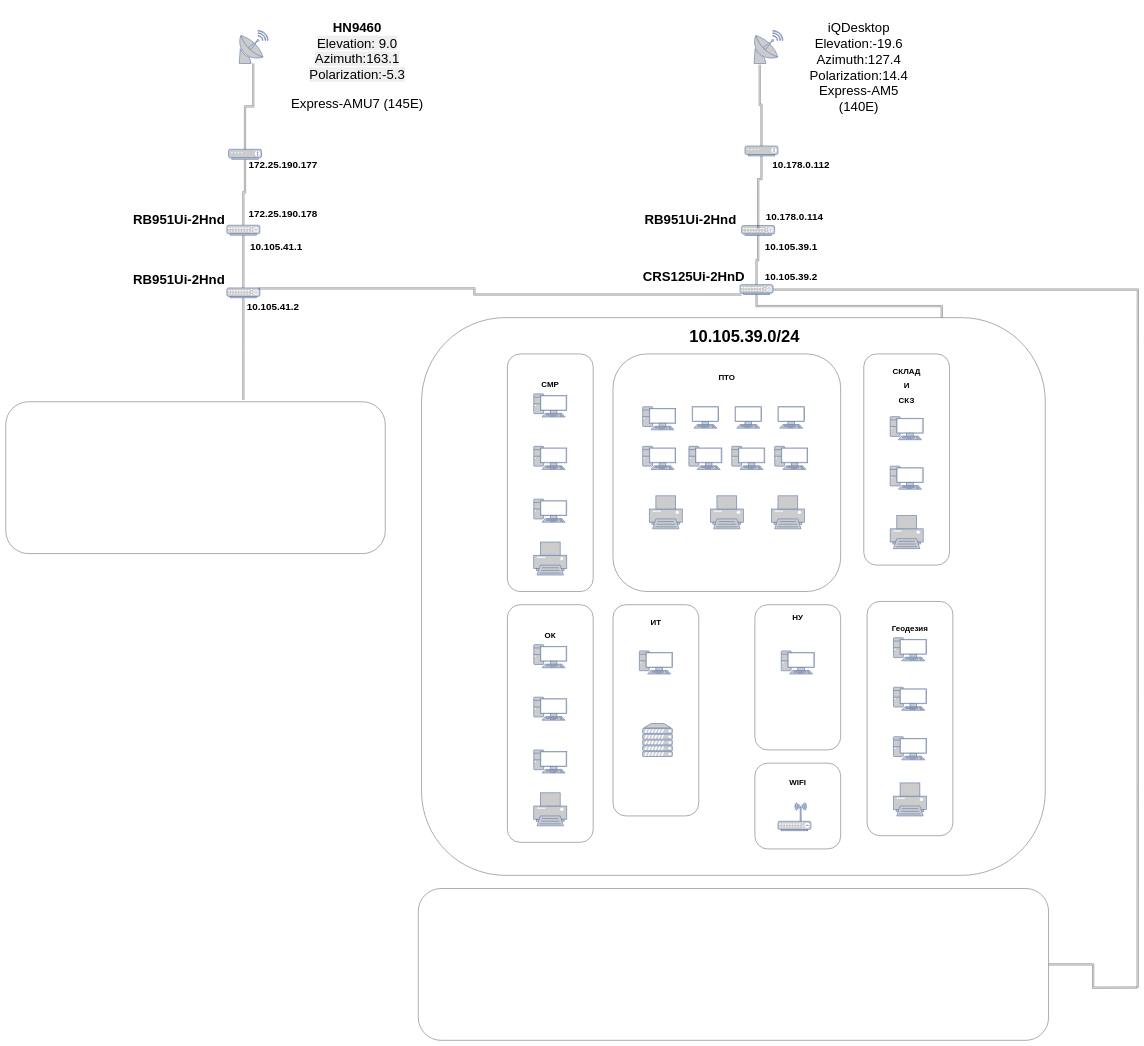
This 1144x1046 diagram has some shape labels left out. The centre of each missing label's shape, as x and y in pixels:
10.105.40.0/24 ВИДЕОНАБЛЮДЕНИЕ: point 733,964
10.105.41.0/24 ТЕЛЕФОНЫ: point 195,477
